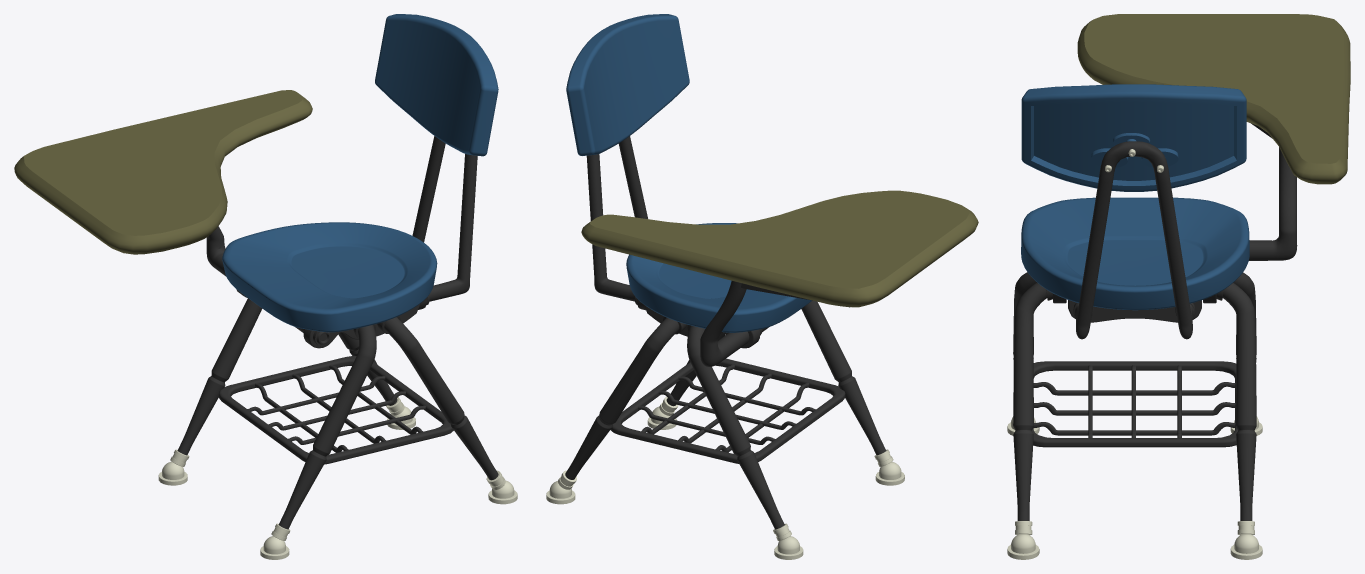
File: DeskPaintReady.obj
The picture shows the model from 3 angles, left to right: view 1: azimuth 30°, elevation 25°; view 2: azimuth 150°, elevation 25°; view 3: azimuth 270°, elevation 25°; orthographic projection. The views are drawn at different scales.
Visible parts, largest first — view 1: polySurface62; view 2: polySurface62; view 3: polySurface62.
Boxes of the visible parts, x1,y1,x2,y2 form: polySurface62: (14,14,517,559); polySurface62: (546,14,978,559); polySurface62: (1007,14,1350,559).
Size of the model in its own units: 17.42 by 19.13 by 12.67.
